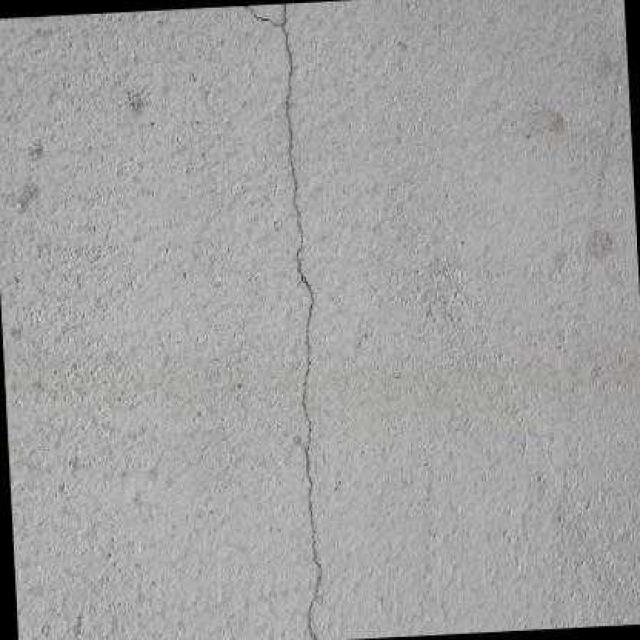D00: (228, 1, 322, 640)
